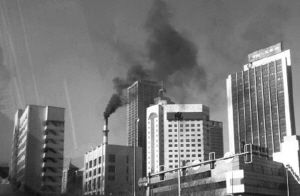dust: (96, 77, 126, 120)
